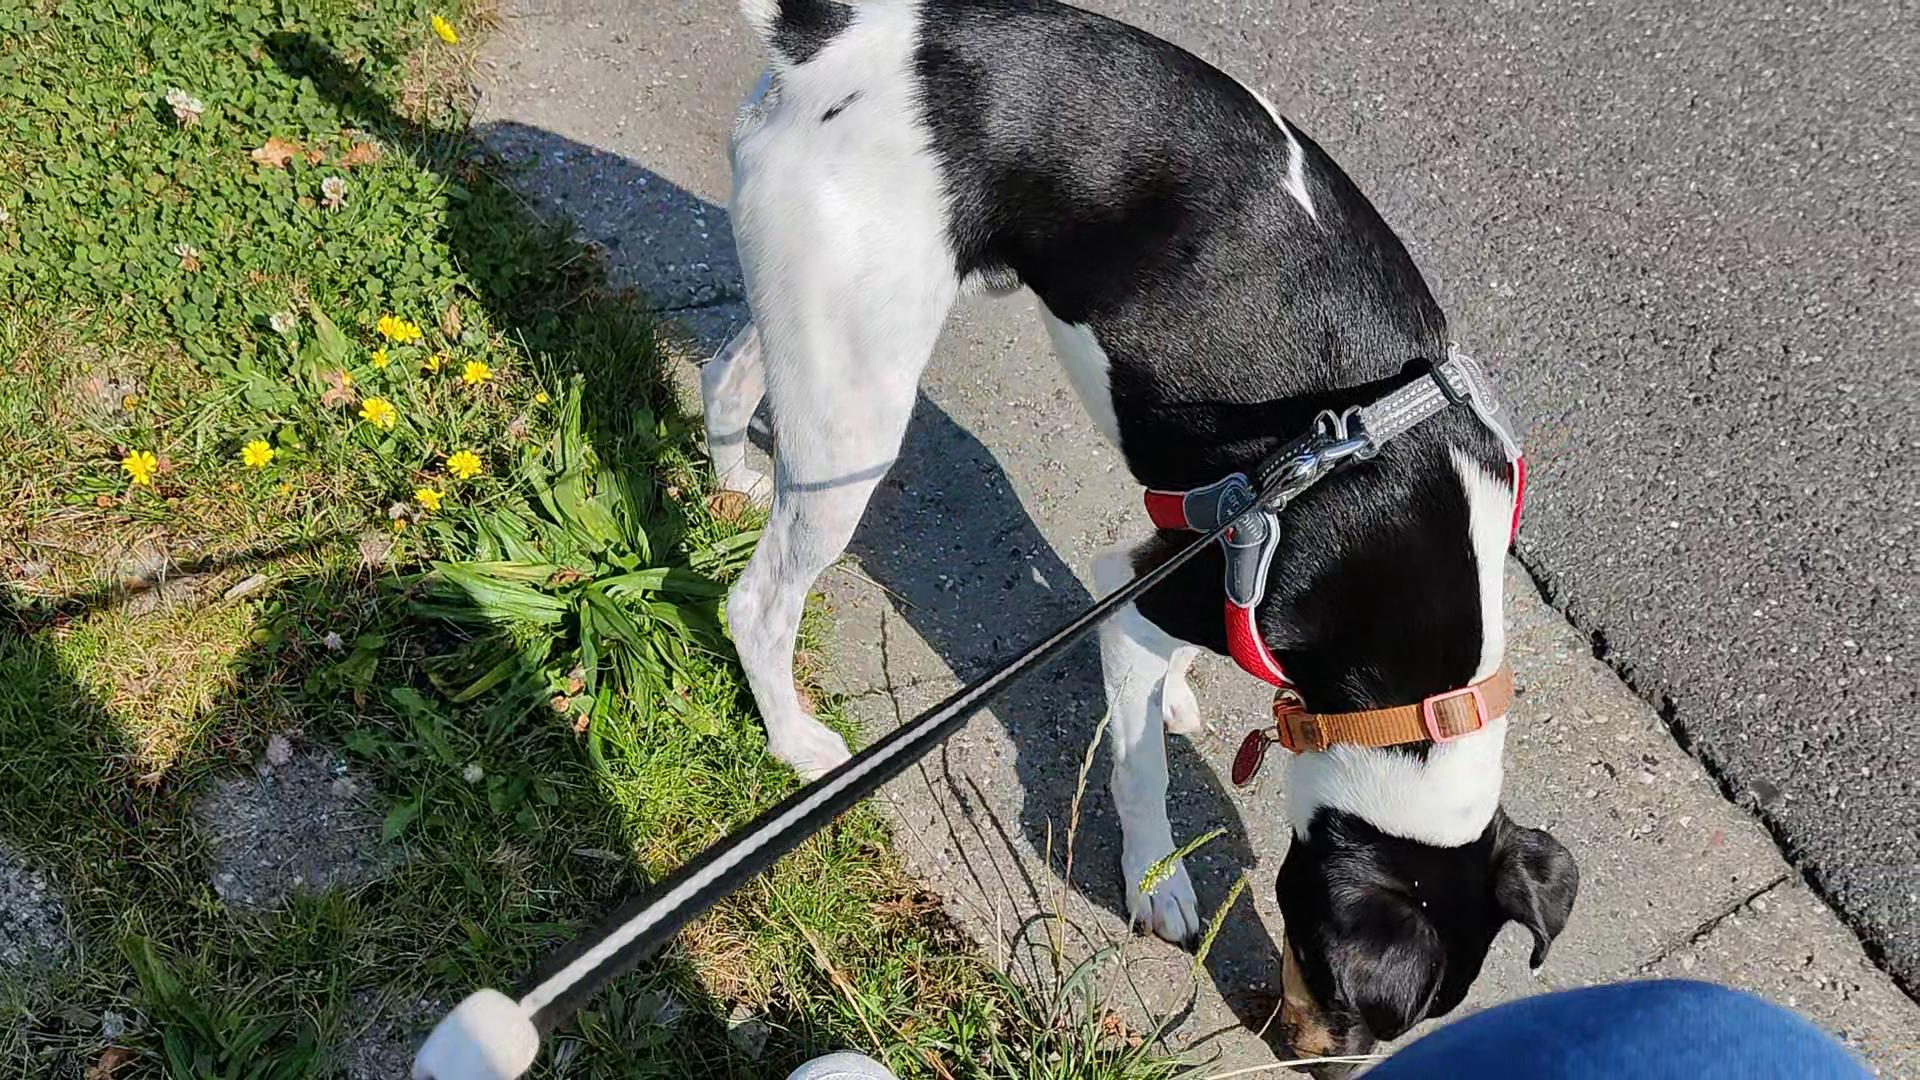Dog: (666, 0, 1593, 1080)
